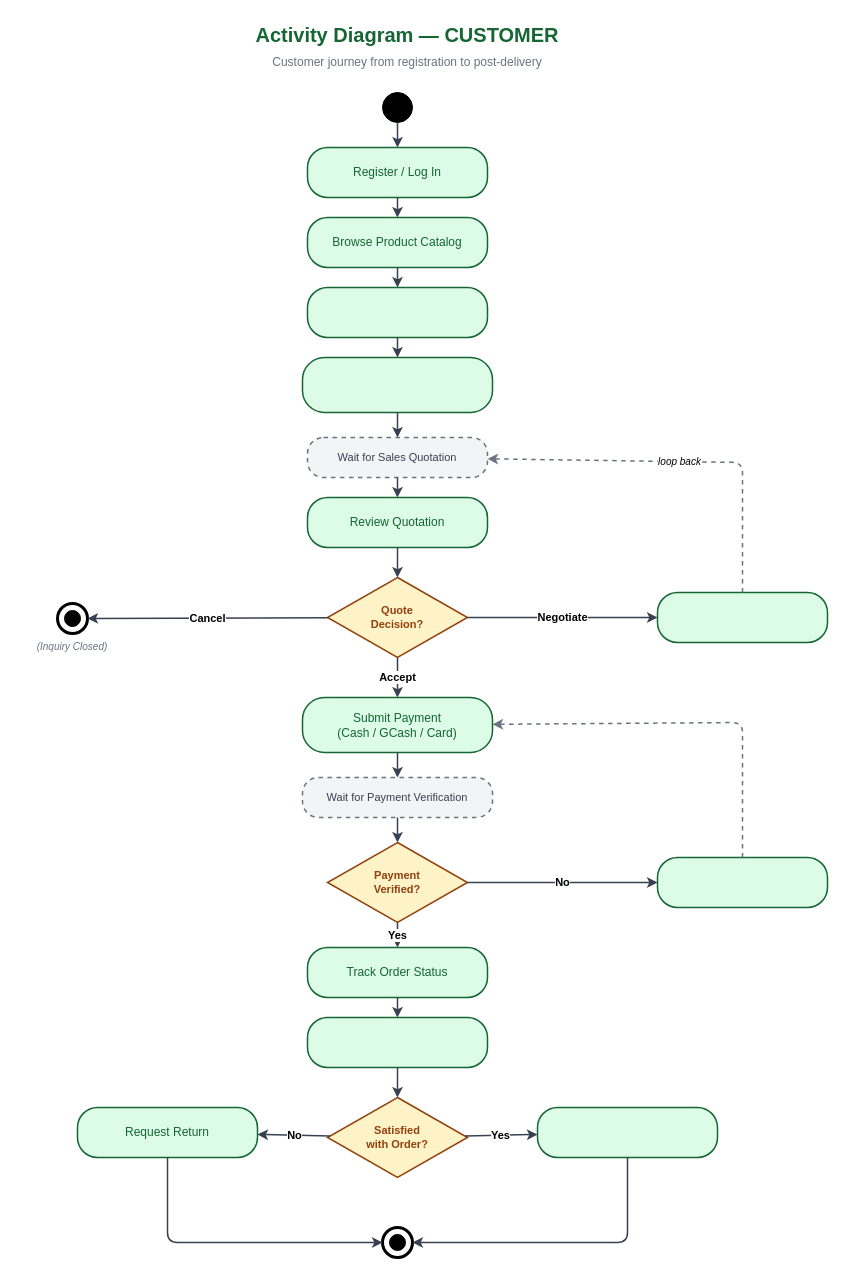
The diagram is 845 pixels wide and 1276 high, and some of its shapes have lost their labels. Each missing label, with the centre of its shape:
Leave Product Review: point 627,1132
Receive Delivery: point 397,1042
Reply / Request Revision: point 742,617
Resubmit / Update Payment: point 742,882
Submit Product Inquiry (Add Customer Message): point 397,384
View Product Details: point 397,312
